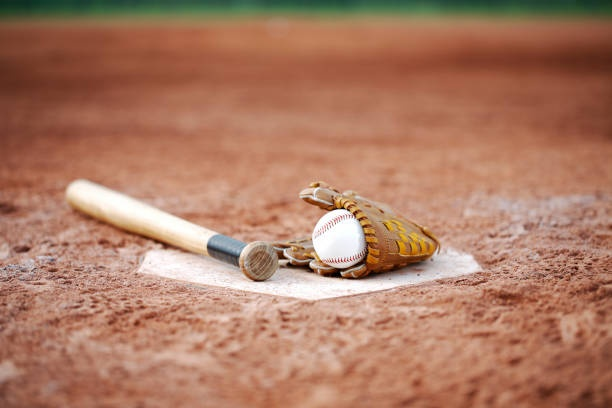bita: (65, 176, 251, 278)
